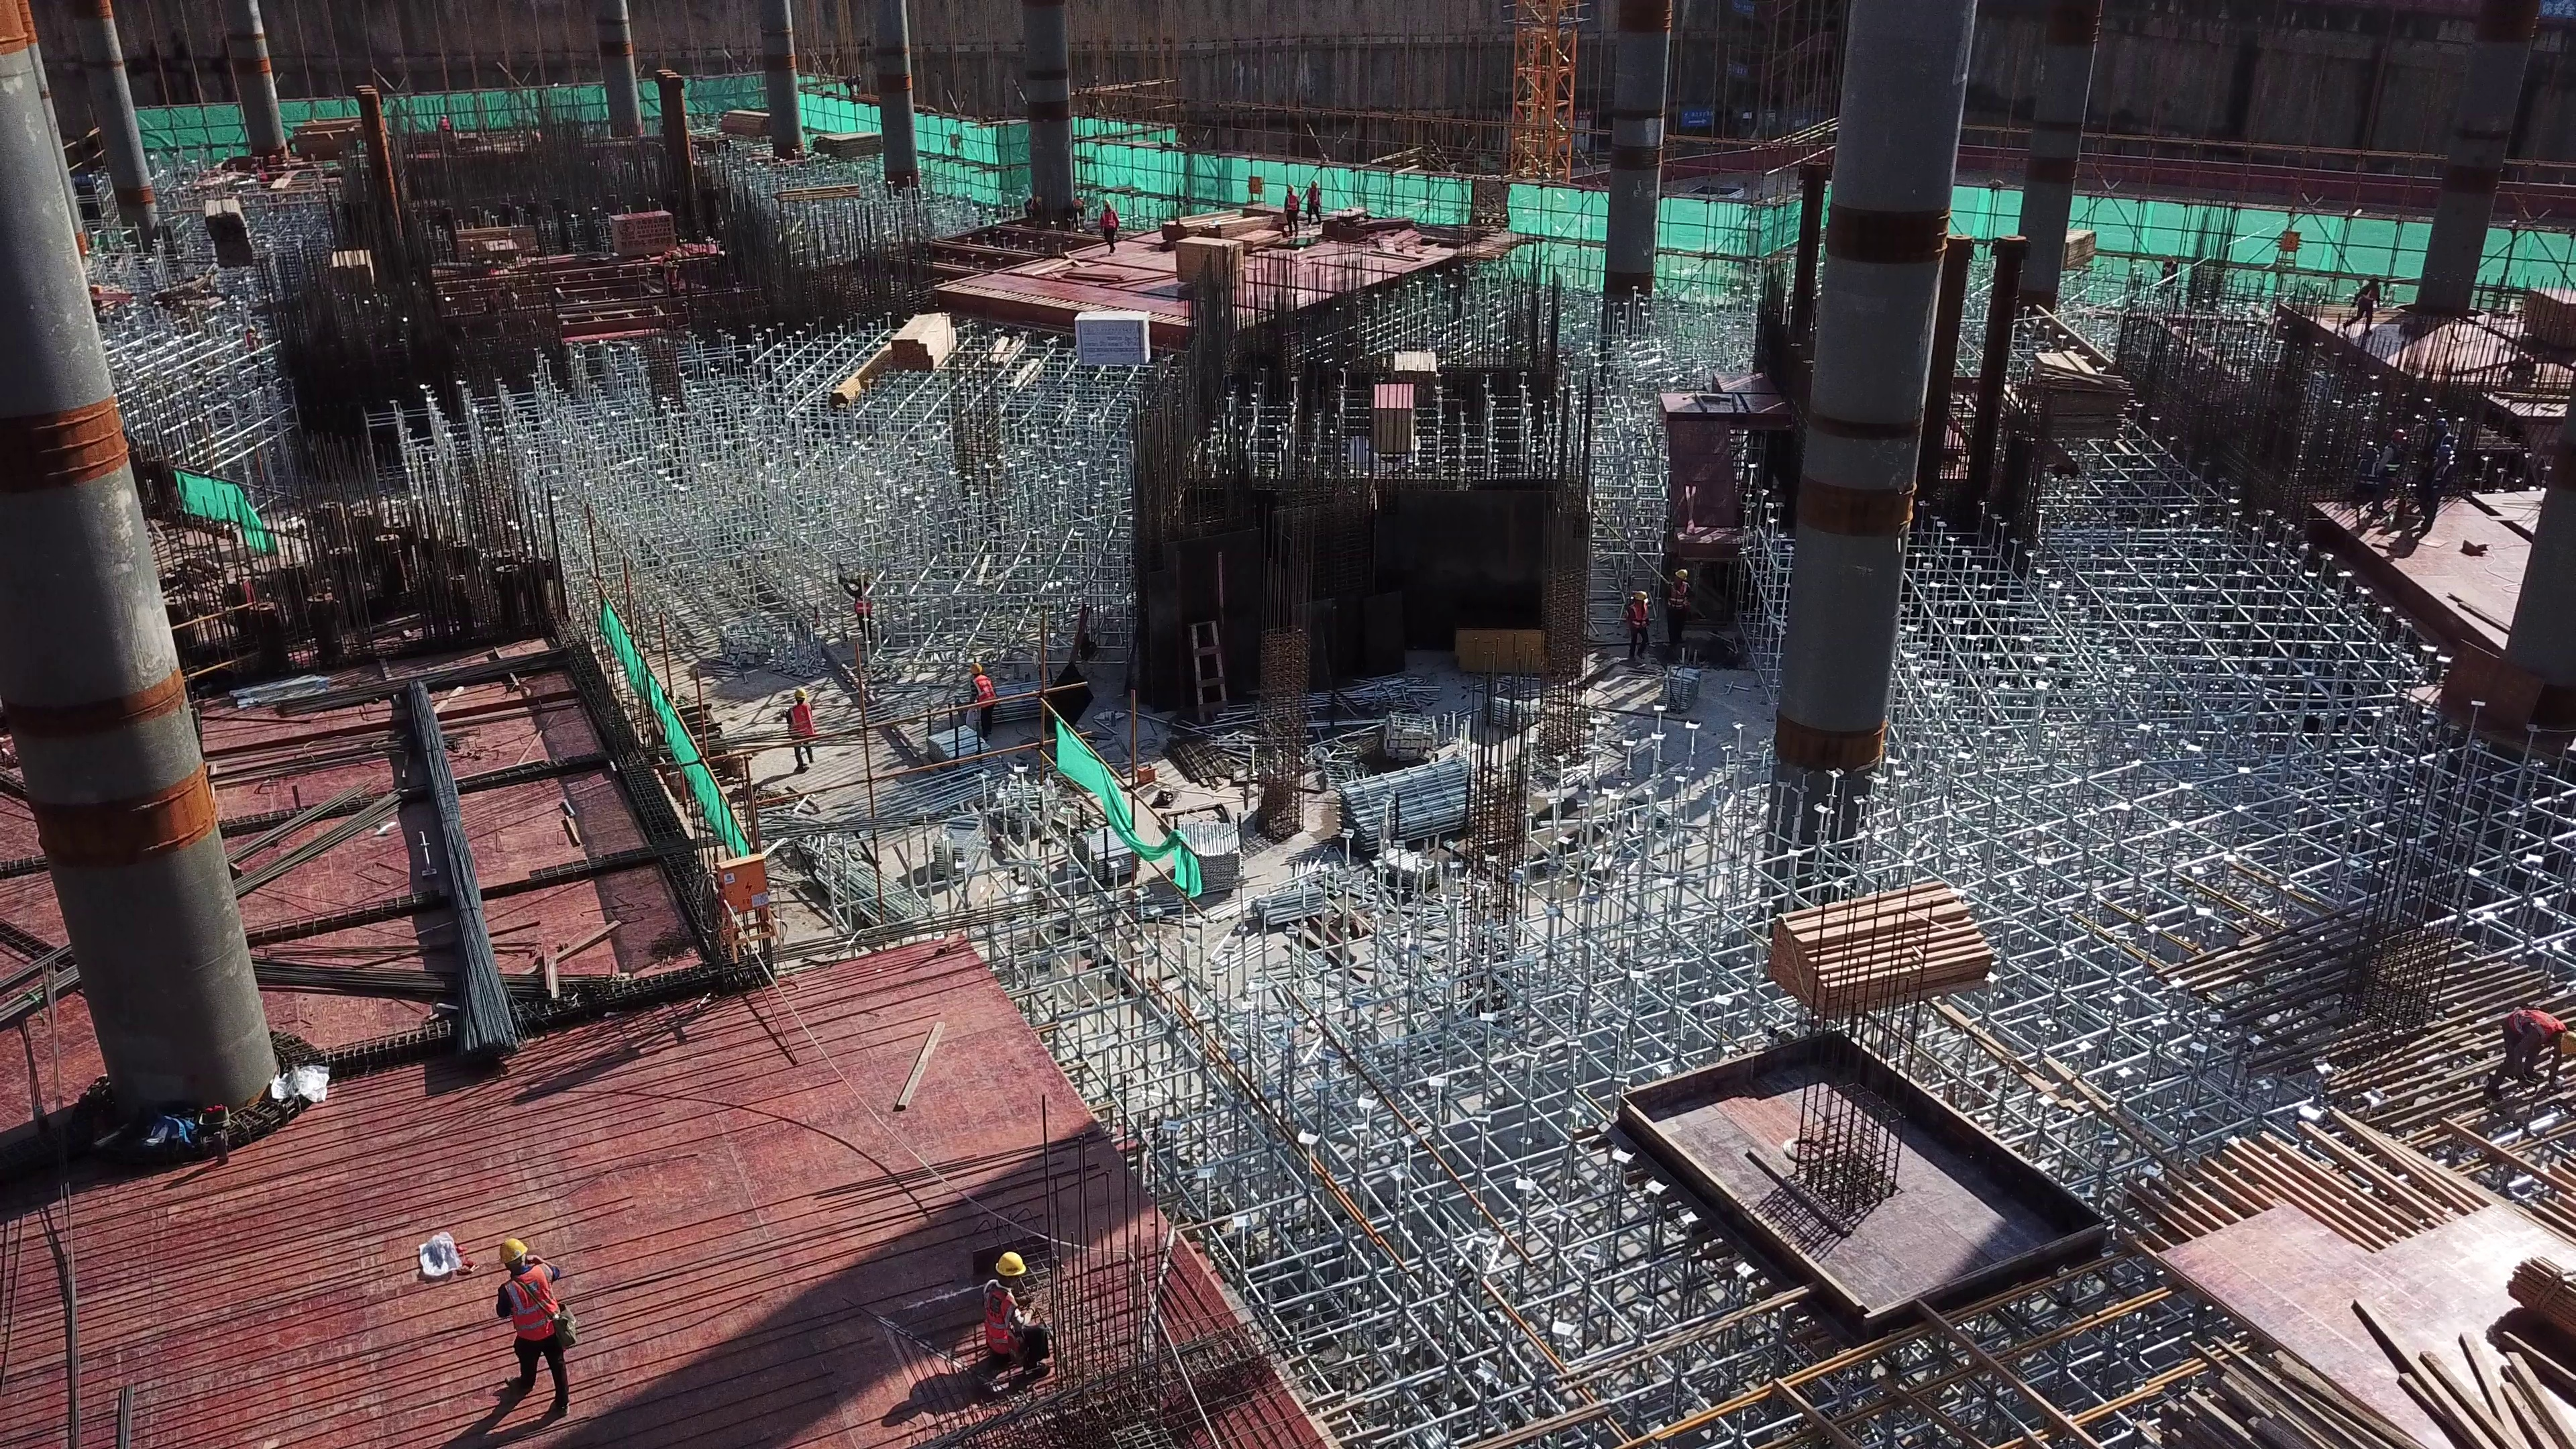board: (2178, 1209, 2544, 1401), (1374, 382, 1407, 441)
ebox: (708, 851, 790, 967), (2273, 230, 2302, 253), (1243, 173, 1265, 195)
helmet: (492, 1237, 529, 1268), (995, 1251, 1028, 1277), (2560, 1029, 2576, 1057), (1633, 590, 1647, 602), (1677, 570, 1693, 581), (967, 661, 981, 674), (796, 688, 808, 697)
person: (484, 1238, 568, 1417), (2480, 1004, 2576, 1100), (978, 1254, 1051, 1379), (965, 661, 1004, 739), (782, 692, 820, 774), (1658, 566, 1687, 657), (1621, 589, 1651, 658), (2347, 276, 2376, 338), (1097, 199, 1122, 252), (1284, 186, 1300, 241), (1306, 183, 1325, 225)
rebar: (400, 676, 519, 1075)
scaffold: (1336, 757, 1481, 853), (1162, 810, 1246, 889), (1077, 822, 1138, 881), (935, 817, 989, 871), (924, 728, 989, 771), (1485, 692, 1550, 733), (1000, 682, 1051, 729), (1653, 667, 1699, 712)
vest: (492, 1267, 563, 1352), (981, 1279, 1028, 1355), (2507, 1010, 2557, 1048), (784, 702, 813, 739), (971, 678, 994, 709), (1665, 580, 1687, 610), (1631, 602, 1650, 633), (1098, 210, 1116, 231), (1306, 189, 1318, 207), (1286, 195, 1297, 213)
wood: (1766, 883, 1993, 1008), (1167, 210, 1272, 252), (890, 313, 951, 368), (1174, 236, 1240, 287)
